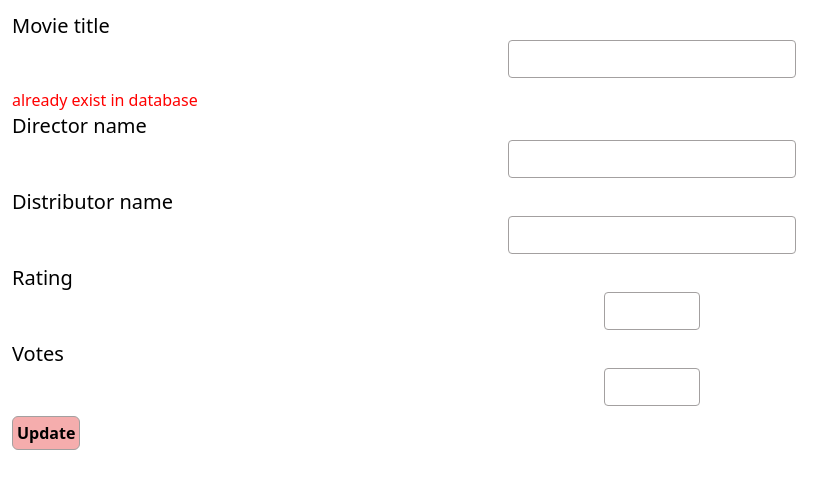
Test: Test Edit Movie Form Component › validation distributor long name ->error
Type "asdasdaasdsdasdasdsdsddsadsadsadsadada" into the field with test id "distributorName" at (652, 235), box [508,216,796,254]
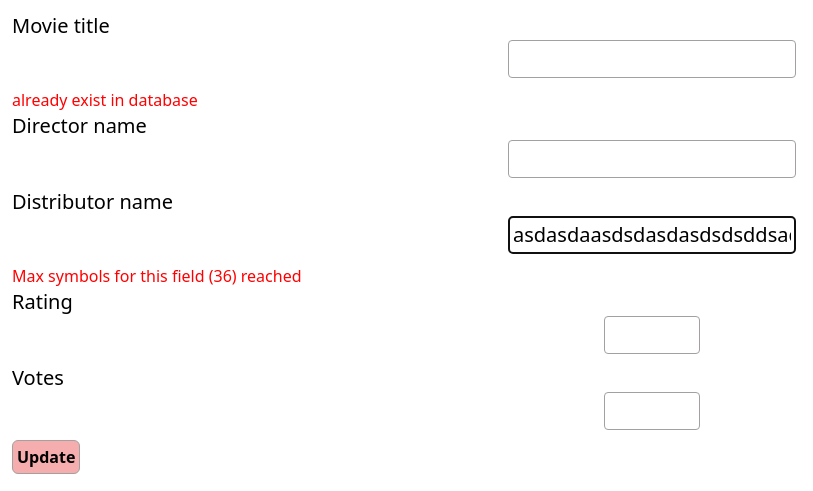
Expected: the text with test id "distributorNameError" reads "Max symbols for this field (36) reached", [12,265,302,287]
